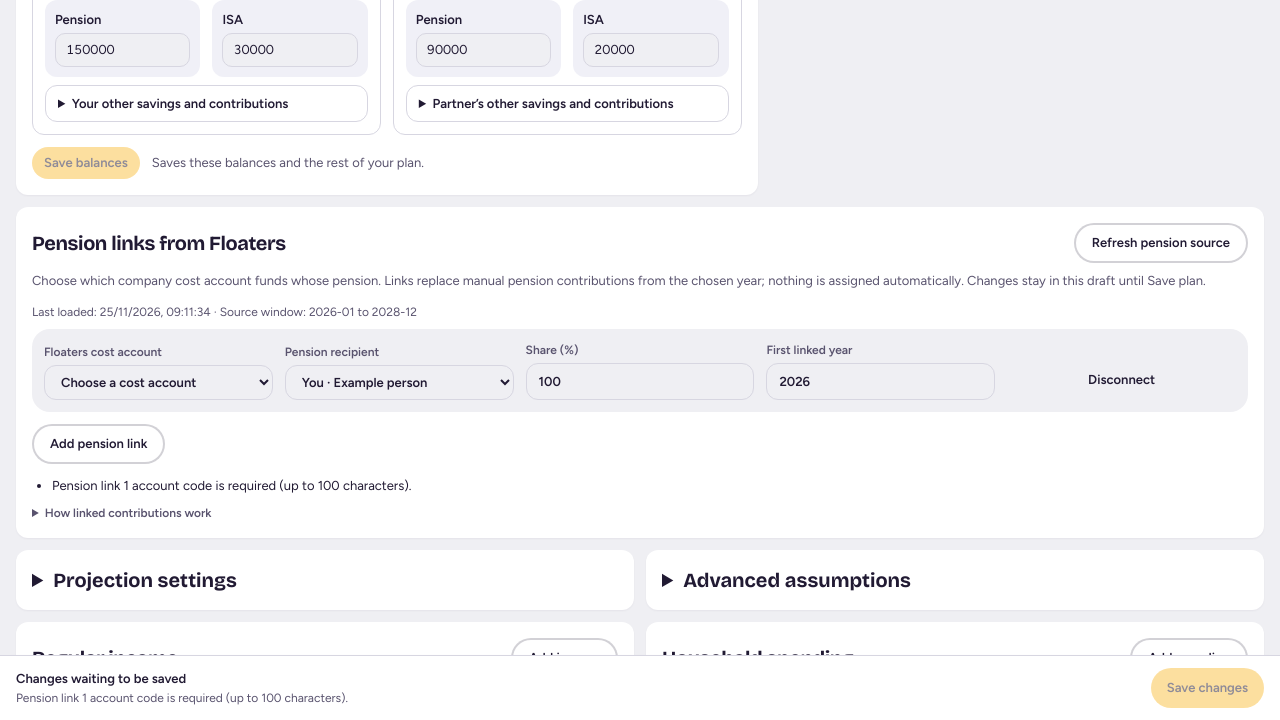
it: linked pensions › blocks saving overallocated and blank shares without converting blank to zero
The width and height of the screenshot is (1280, 720).
Earlier steps of the test are not shown.
(page scrolled)
Select "Company pension · 700 (pension name)" in the dropdown named "Pension link 1 account". click: (158, 382)
box: [44,365,273,400]
(page scrolled)
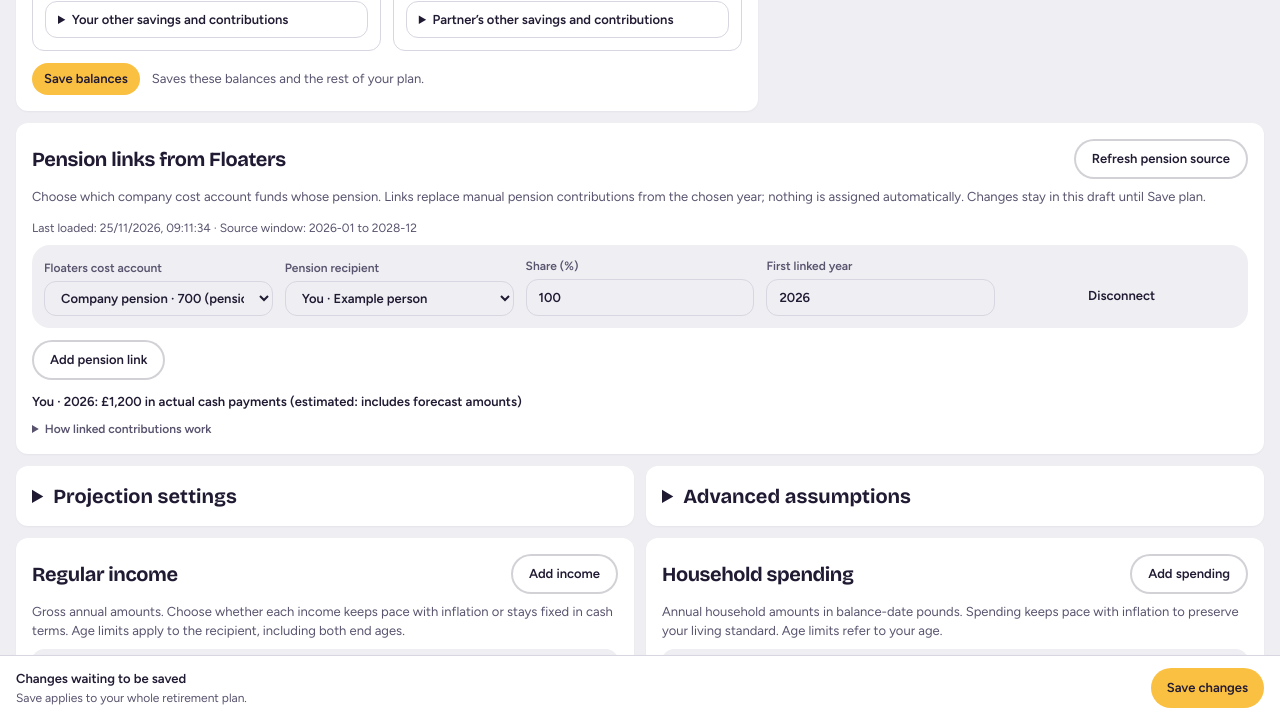
Click the button "Add pension link". click: click(99, 360)
box: [32,340,165,380]
(page scrolled)
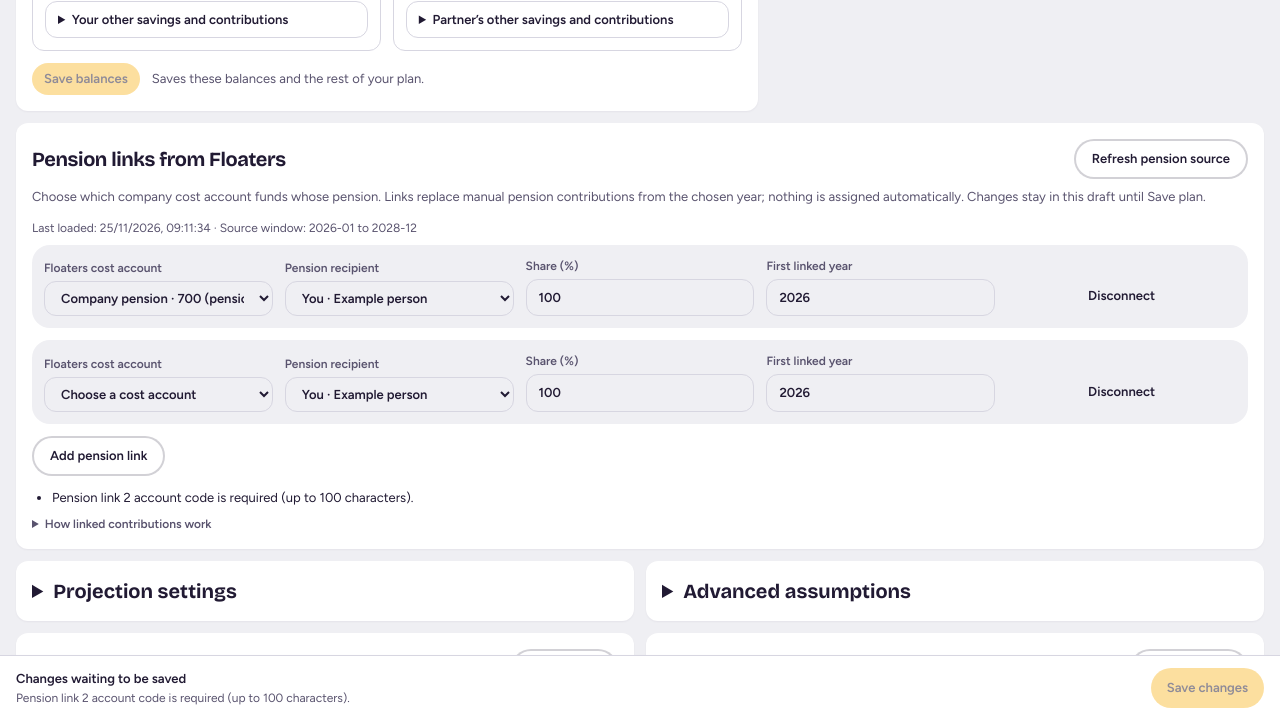
Select "Company pension · 700 (pension name)" in the dropdown named "Pension link 2 account". click: (158, 394)
box: [44,376,273,412]
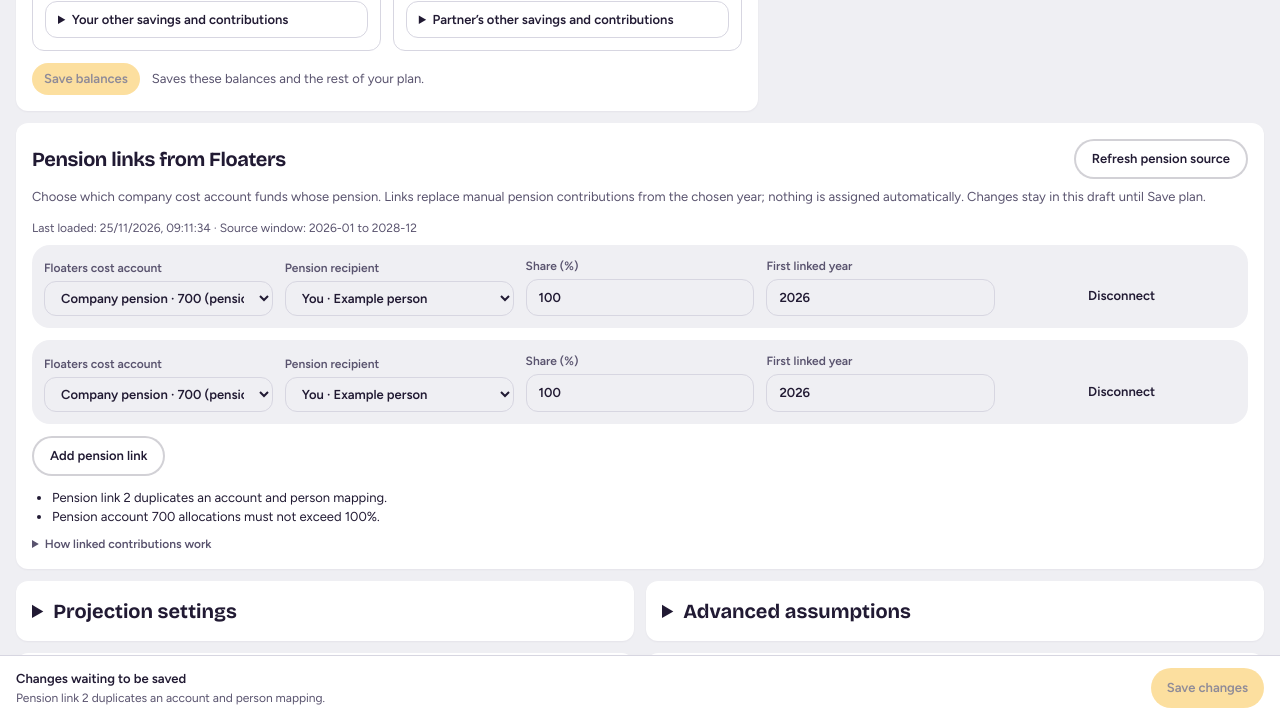
Select "Partner · Example partner" in the dropdown named "Pension link 2 person". click: (399, 394)
box: [285,376,514,412]
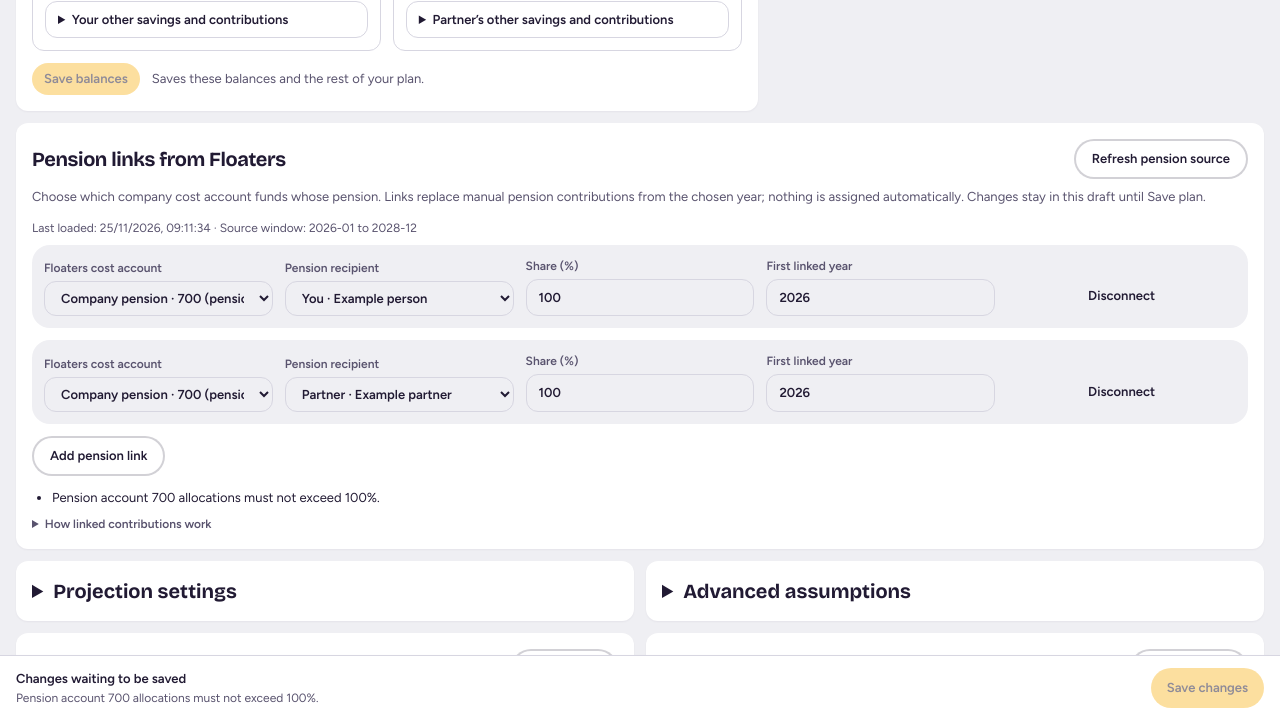
Replace the text in the number field named "Pension link 1 share" with "60". click: (640, 297)
box: [526,278,754,316]
Replace the text in the number field named "Pension link 2 share" with "40". click: (640, 393)
box: [526,374,754,412]
(page scrolled)
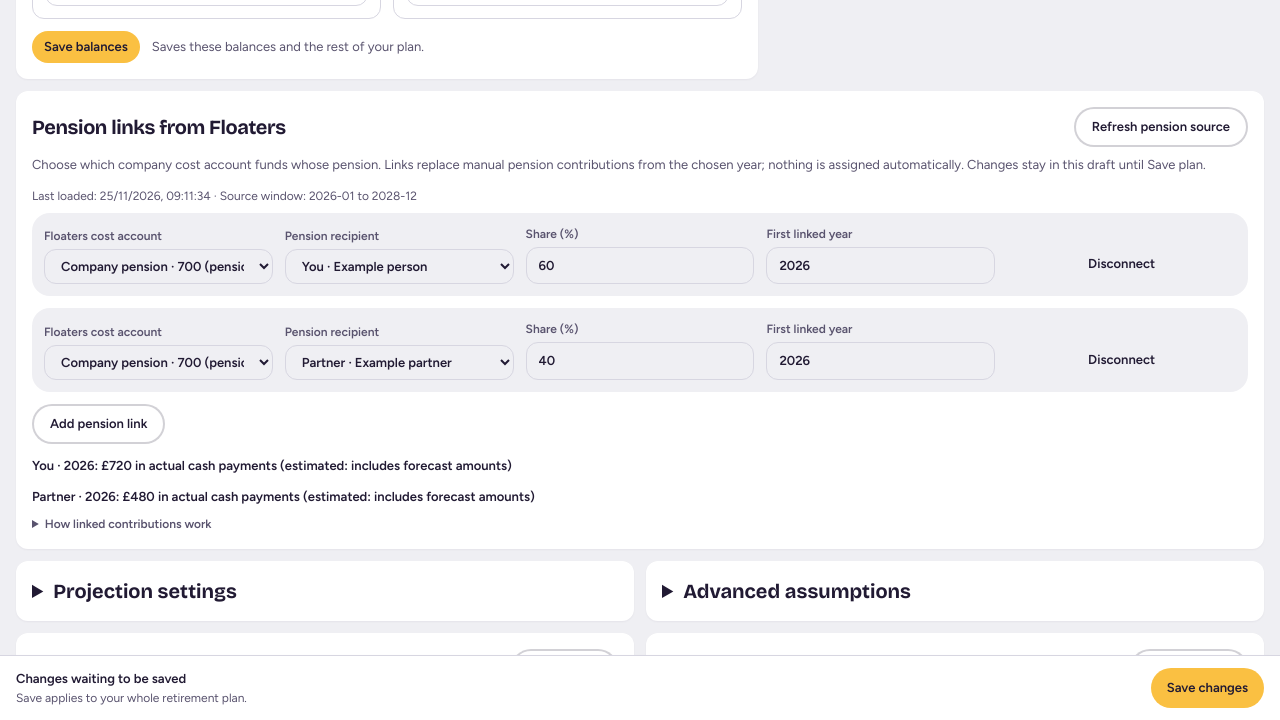
Clear the number field named "Pension link 2 share". click: (640, 361)
box: [526,342,754,380]
(page scrolled)
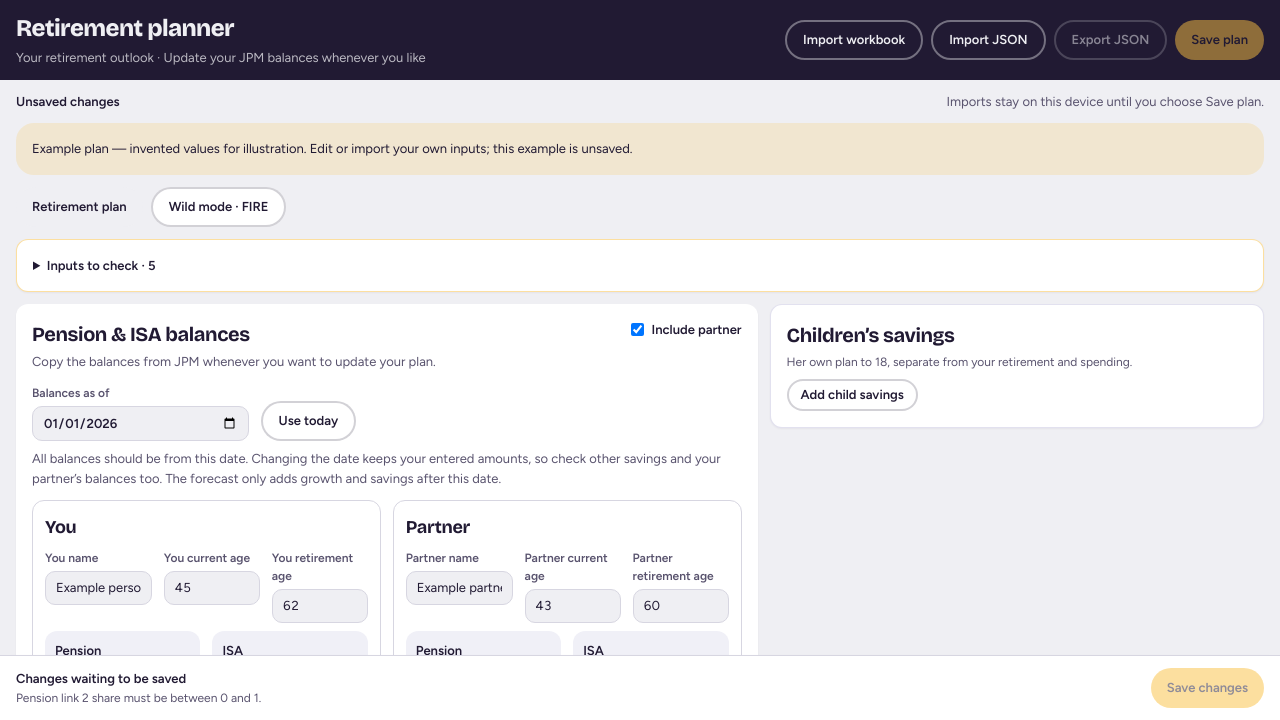
Check: the button "Save plan" is disabled, box [1175,20,1264,60]
